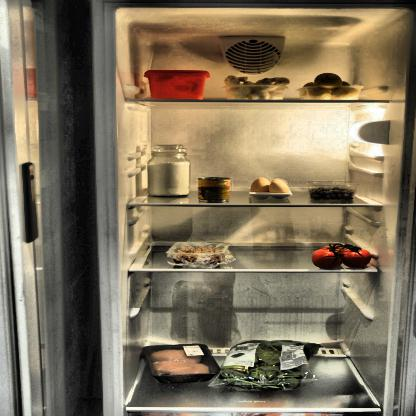blueberries: (309, 185, 362, 202)
butter: (144, 68, 212, 101)
chicken: (148, 342, 212, 382)
corn: (196, 176, 233, 203)
eggs: (248, 177, 294, 194)
mushrooms: (223, 73, 292, 102)
potato: (301, 74, 362, 100)
shrimp: (170, 242, 230, 264)
spinach: (220, 339, 328, 395)
tomato: (311, 242, 374, 268)
